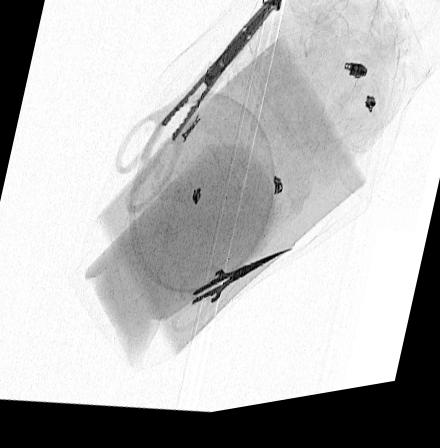Scissors: (112, 0, 284, 221), (168, 257, 292, 342)
